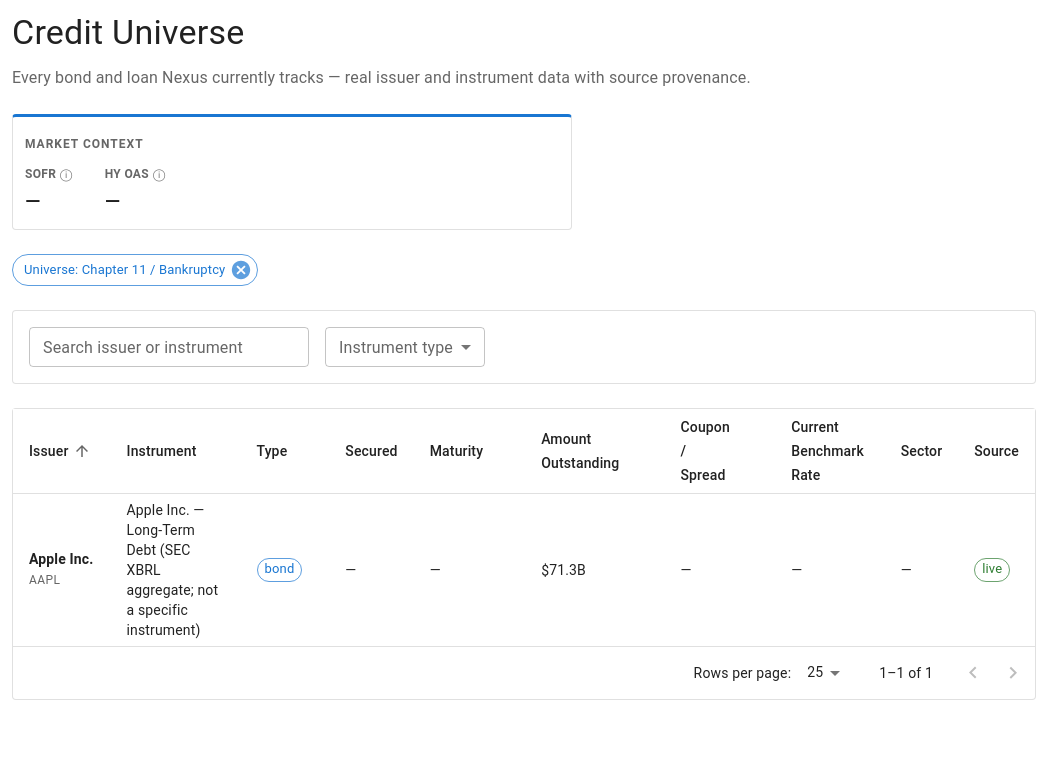
Test case: CreditUniversePage › clearing the universe filter chip restores the normal unfiltered Credit Universe
Check: the text "Universe: Chapter 11 / Bankruptcy" is shown, box [13,260,236,279]
Click the icon with test id "CancelIcon".
click(241, 270)  # box [230,259,252,281]
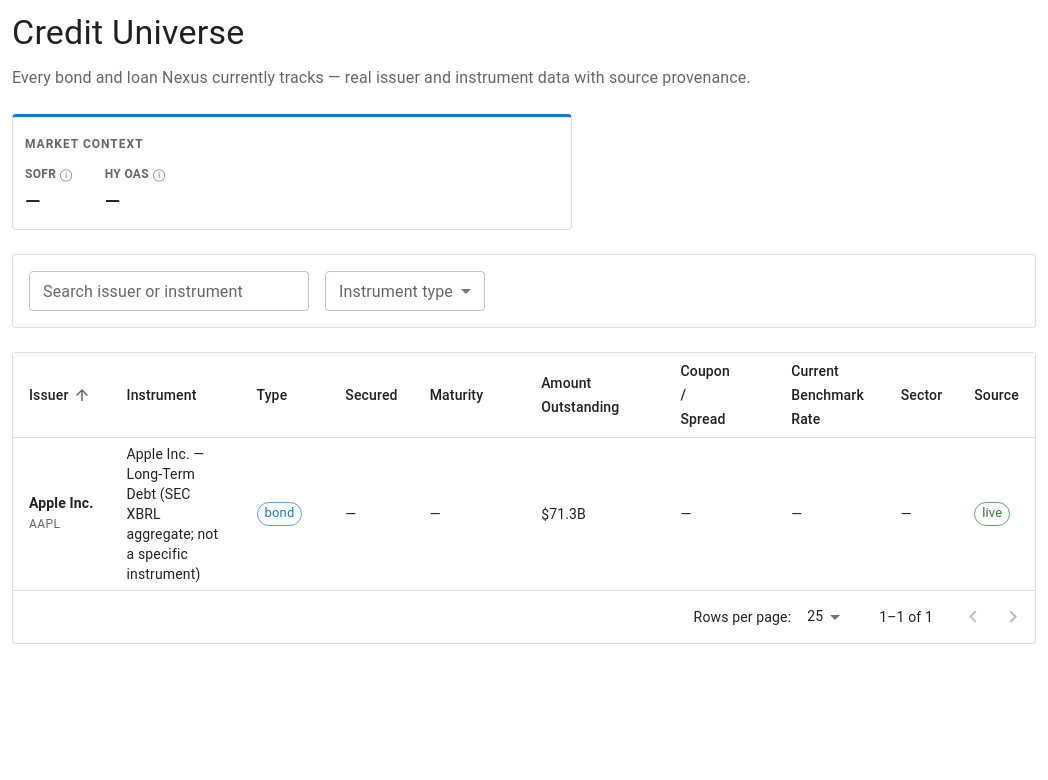
Check: the button "Universe: Chapter 11 / Bankruptcy" is gone
